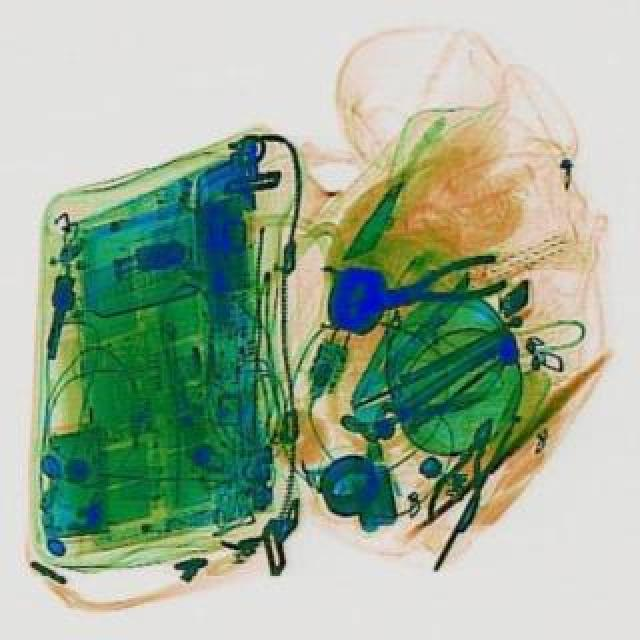wrench: (360, 246, 508, 322), (420, 408, 508, 532)
